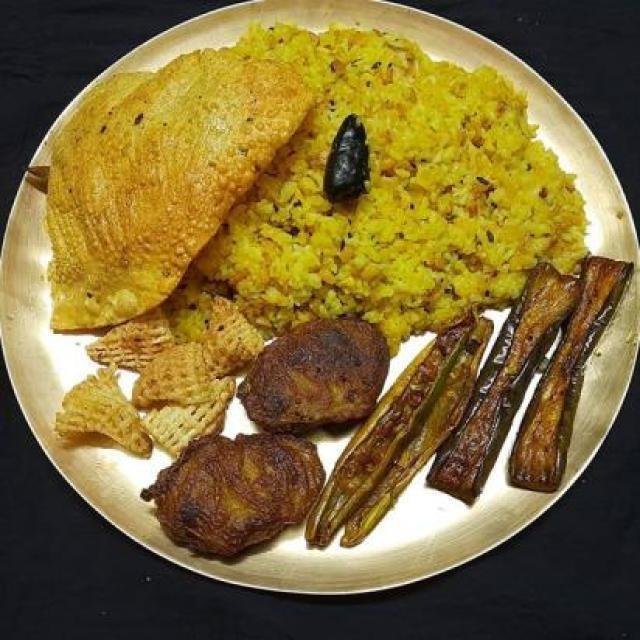khichdi: (192, 24, 576, 318)
